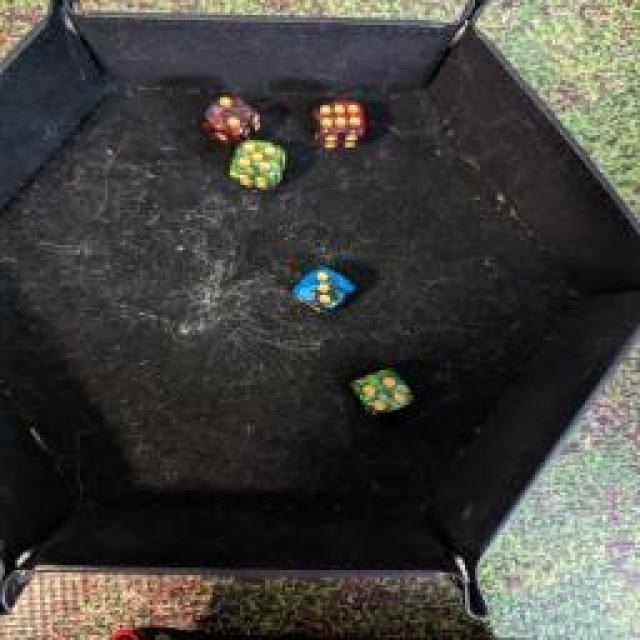dice_2: (196, 89, 266, 146)
dice_3: (288, 258, 358, 314)
dice_4: (346, 362, 412, 422)
dice_5: (218, 134, 292, 191)
dice_6: (308, 98, 374, 152)
